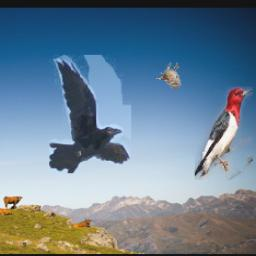Crow: (48, 56, 130, 174)
Sparrow: (155, 62, 181, 89)
Woodpecker: (194, 88, 252, 181)
